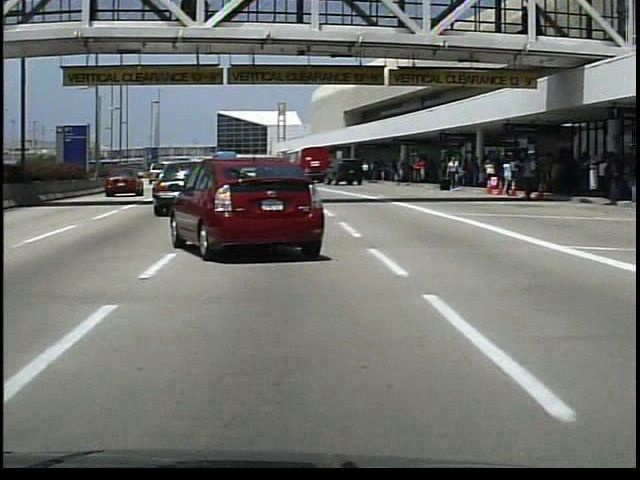person: (517, 152, 540, 205), (445, 156, 462, 194), (411, 157, 424, 185), (360, 163, 370, 181)
